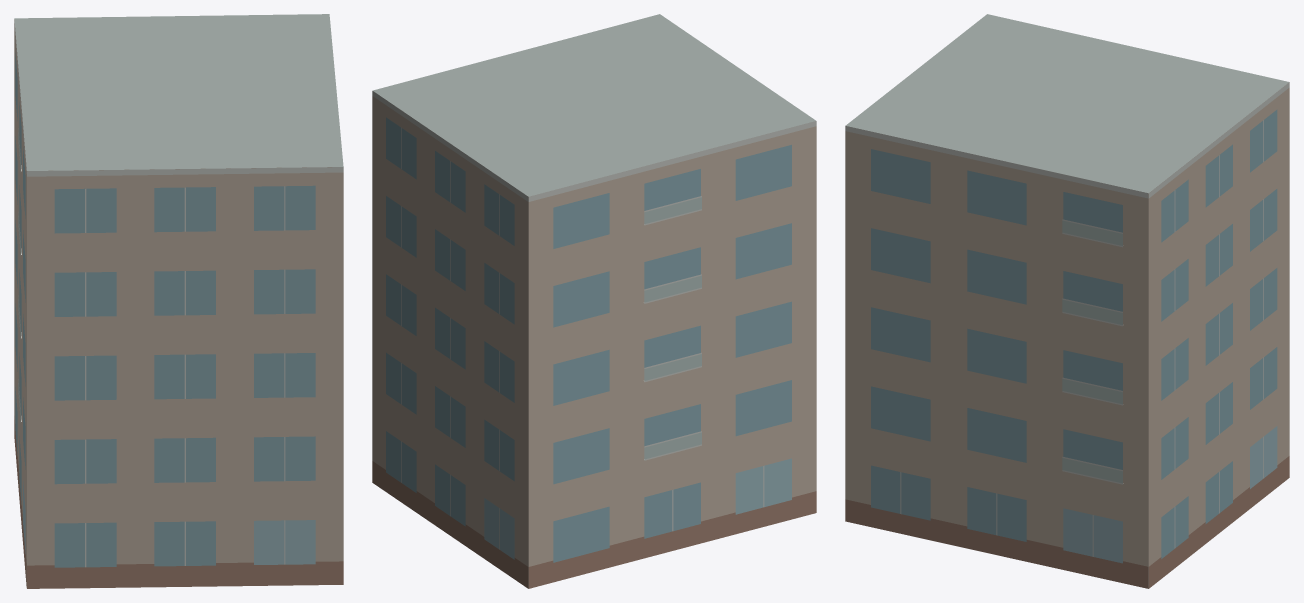
Rendered from survey-upis-32712477.glb.
3 views of the same model, side by side, from view 1: azimuth 30°, elevation 25°; view 2: azimuth 150°, elevation 25°; view 3: azimuth 270°, elevation 25° (orthographic). The views are drawn at different scales.
Visible parts, largest first — view 1: survey-upis-32712477.tmp; view 2: survey-upis-32712477.tmp; view 3: survey-upis-32712477.tmp.
Boxes of the visible parts, bbox=[...] form: survey-upis-32712477.tmp: bbox=[14, 14, 343, 588]; survey-upis-32712477.tmp: bbox=[372, 14, 816, 588]; survey-upis-32712477.tmp: bbox=[845, 14, 1289, 588].
Size of the model in its own units: 17.49 by 17.99 by 18.32.
